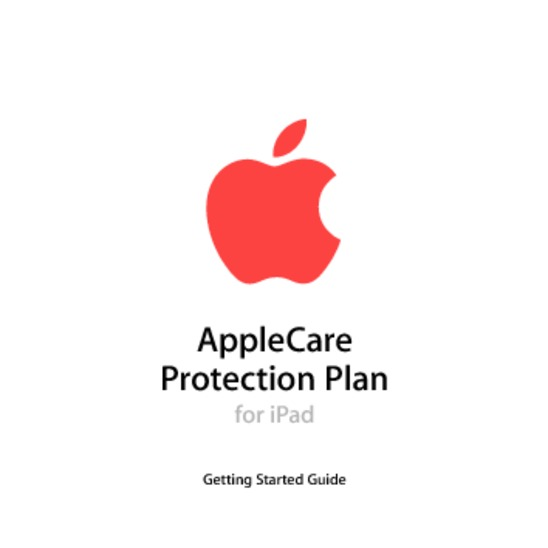Apple: (163, 94, 405, 296)
